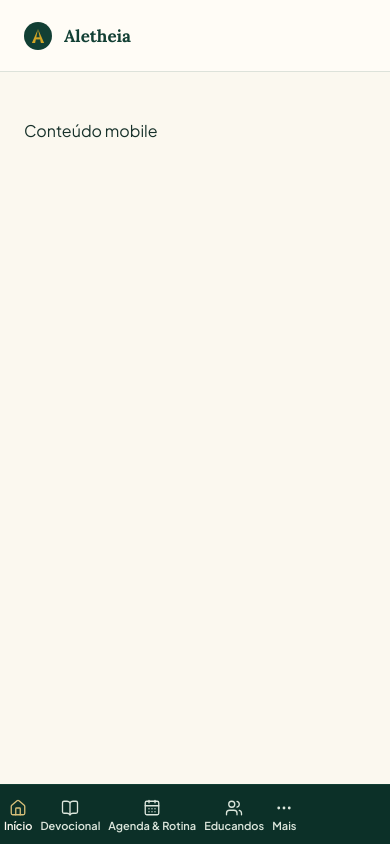
Test: ProductShell adapter › opens the Mais overflow sheet from the tab bar
Click the button "Mais". click: (284, 814)
box: [268,785,300,843]
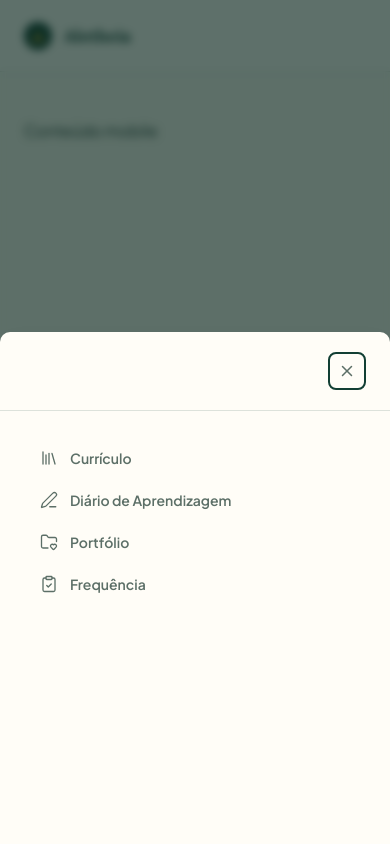
Now the dialog named "Mais opções" is shown
